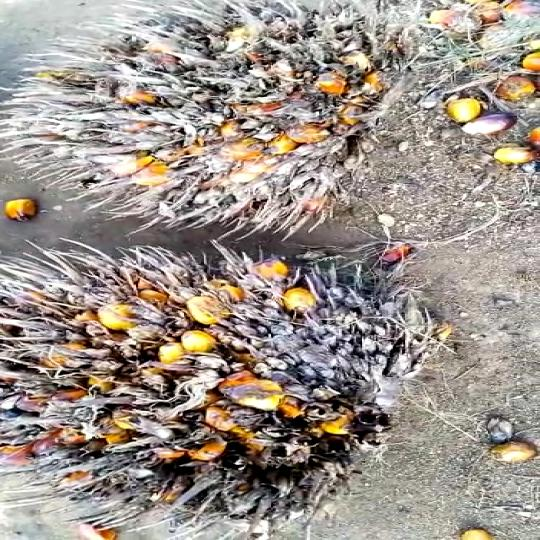terlalu masak: (0, 248, 458, 516), (0, 5, 418, 230)
